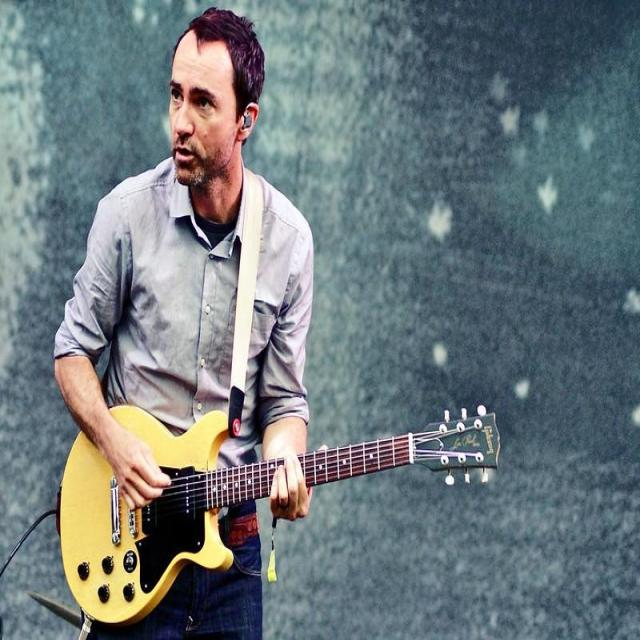guitar: (60, 406, 283, 625)
